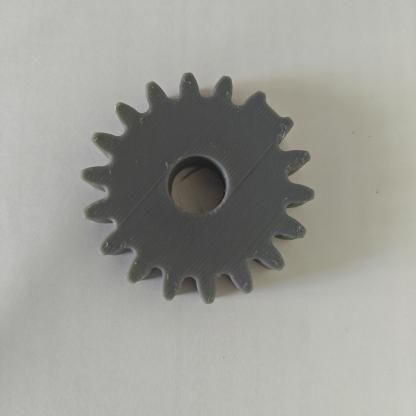defect: (218, 75, 304, 157)
gear: (53, 54, 340, 333)
